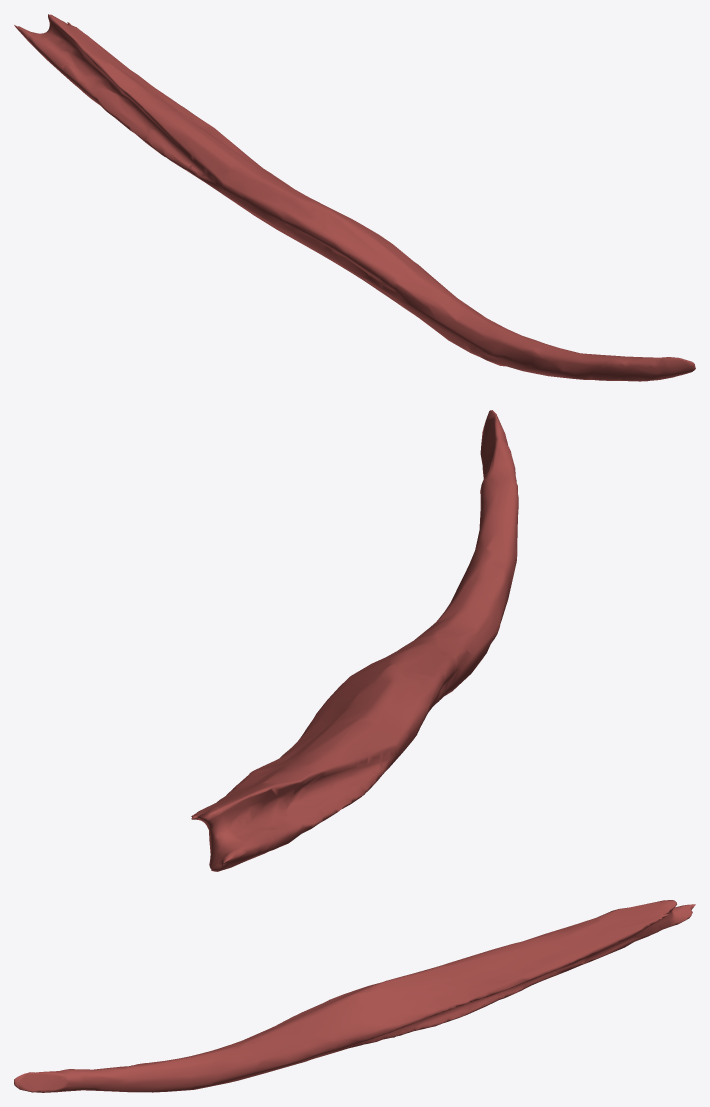
File: FMA37720.glb
3 views of the same model, one above another, from view 1: azimuth 30°, elevation 25°; view 2: azimuth 150°, elevation 25°; view 3: azimuth 270°, elevation 25° (orthographic). The views are drawn at different scales.
Parts seen in each view (by area): view 1: FMA37720; view 2: FMA37720; view 3: FMA37720.
Boxes of the visible parts, x1,y1,x2,y2 form: FMA37720: (14, 14, 695, 381); FMA37720: (191, 410, 518, 871); FMA37720: (14, 900, 695, 1092).
Size of the model in its own units: 0.0249 by 0.0148 by 0.0702.
